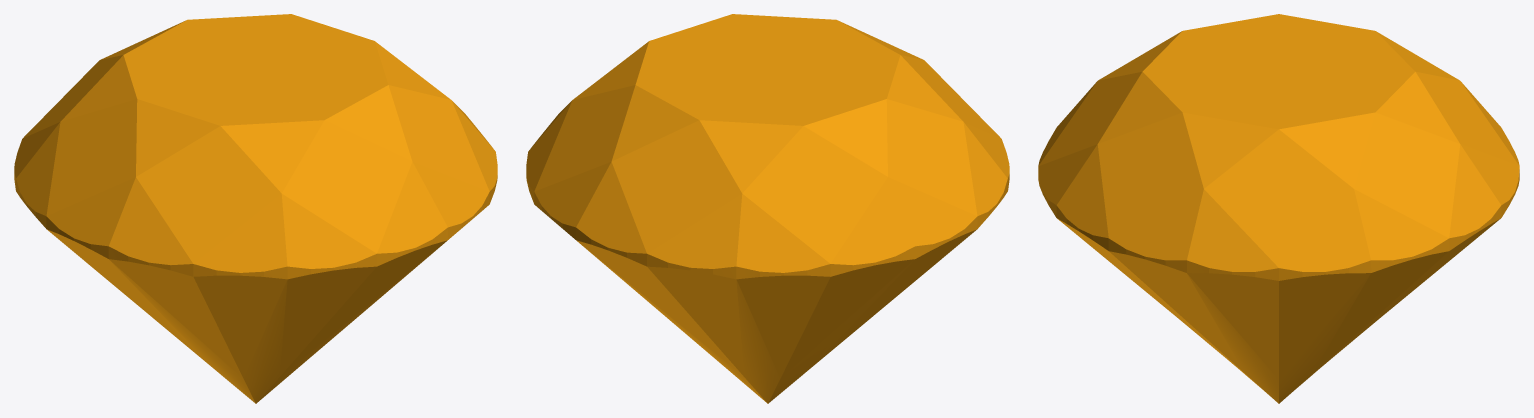
Rendered from zhuanshi2.glb.
3 renders of one model, left to right at view 1: azimuth 30°, elevation 25°; view 2: azimuth 150°, elevation 25°; view 3: azimuth 270°, elevation 25°, orthographic.
Visible parts, largest first — view 1: 图层01(A7633658-A981-4B9E-A8F4-4B5AD393FC98); view 2: 图层01(A7633658-A981-4B9E-A8F4-4B5AD393FC98); view 3: 图层01(A7633658-A981-4B9E-A8F4-4B5AD393FC98).
Part boxes in pixels (x1,y1,x2,y2): 图层01(A7633658-A981-4B9E-A8F4-4B5AD393FC98): (14,14,497,403); 图层01(A7633658-A981-4B9E-A8F4-4B5AD393FC98): (526,14,1009,403); 图层01(A7633658-A981-4B9E-A8F4-4B5AD393FC98): (1038,14,1519,403).
Size of the model in its own units: 0.374 by 0.2848 by 0.374.
